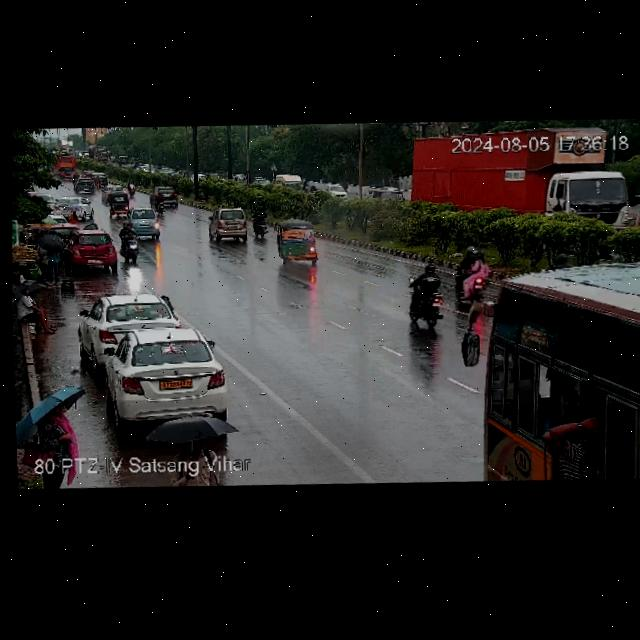bus: (445, 243, 640, 487)
car: (99, 322, 230, 428), (80, 290, 176, 358), (62, 230, 121, 274), (271, 220, 322, 268), (206, 208, 251, 244), (123, 206, 166, 241), (53, 194, 94, 218), (152, 183, 177, 207), (107, 192, 131, 216), (108, 190, 130, 216), (102, 183, 129, 203), (73, 175, 98, 194), (95, 171, 108, 185)
motorcycle: (403, 264, 447, 331), (456, 241, 488, 295), (118, 222, 139, 263), (248, 204, 270, 239), (151, 190, 166, 214), (127, 179, 136, 196), (95, 175, 102, 187)
person: (141, 413, 227, 483), (31, 393, 77, 461), (10, 277, 53, 336), (32, 224, 69, 284), (69, 209, 78, 222)
truck: (393, 110, 630, 228)
